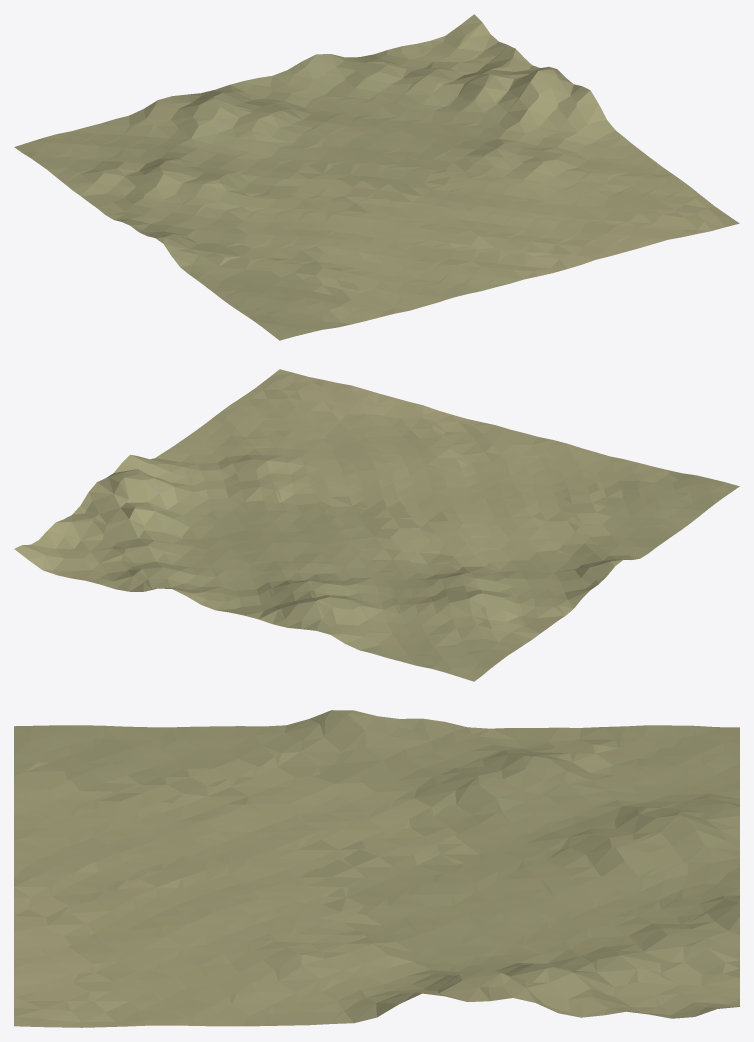
The model's file is Ground_1_-6.glb.
3 renders of one model, top to bottom at view 1: azimuth 30°, elevation 25°; view 2: azimuth 150°, elevation 25°; view 3: azimuth 270°, elevation 25°, orthographic. The views are drawn at different scales.
Visible parts, largest first — view 1: Ground_1_-6; view 2: Ground_1_-6; view 3: Ground_1_-6.
Boxes of the visible parts, bbox=[...] form: Ground_1_-6: bbox=[14, 14, 739, 340]; Ground_1_-6: bbox=[14, 369, 739, 681]; Ground_1_-6: bbox=[14, 710, 739, 1027].
Size of the model in its own units: 768 by 55.15 by 768.
